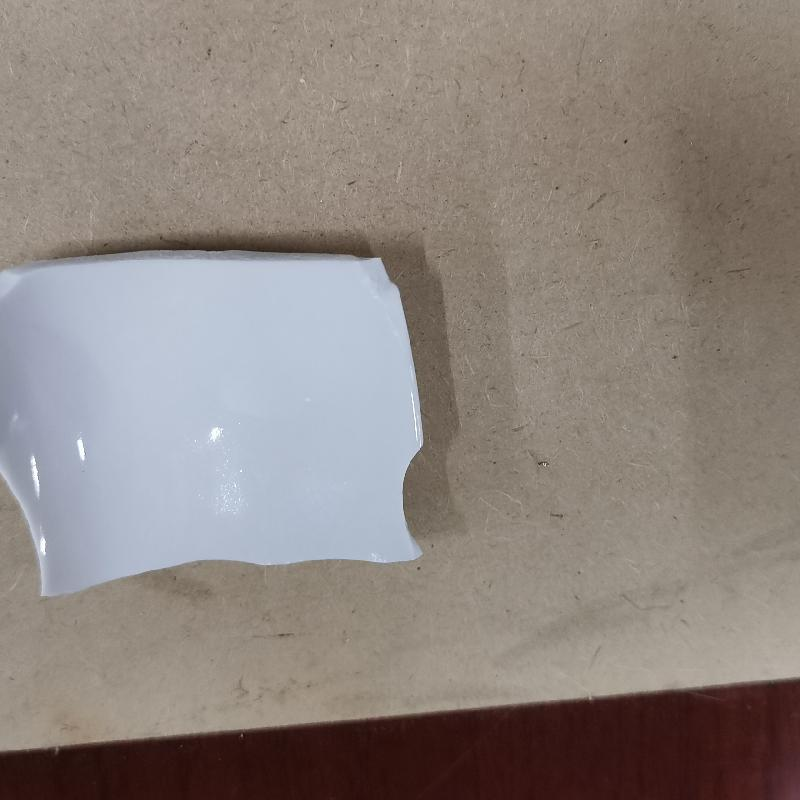ceram: (3, 242, 432, 600)
